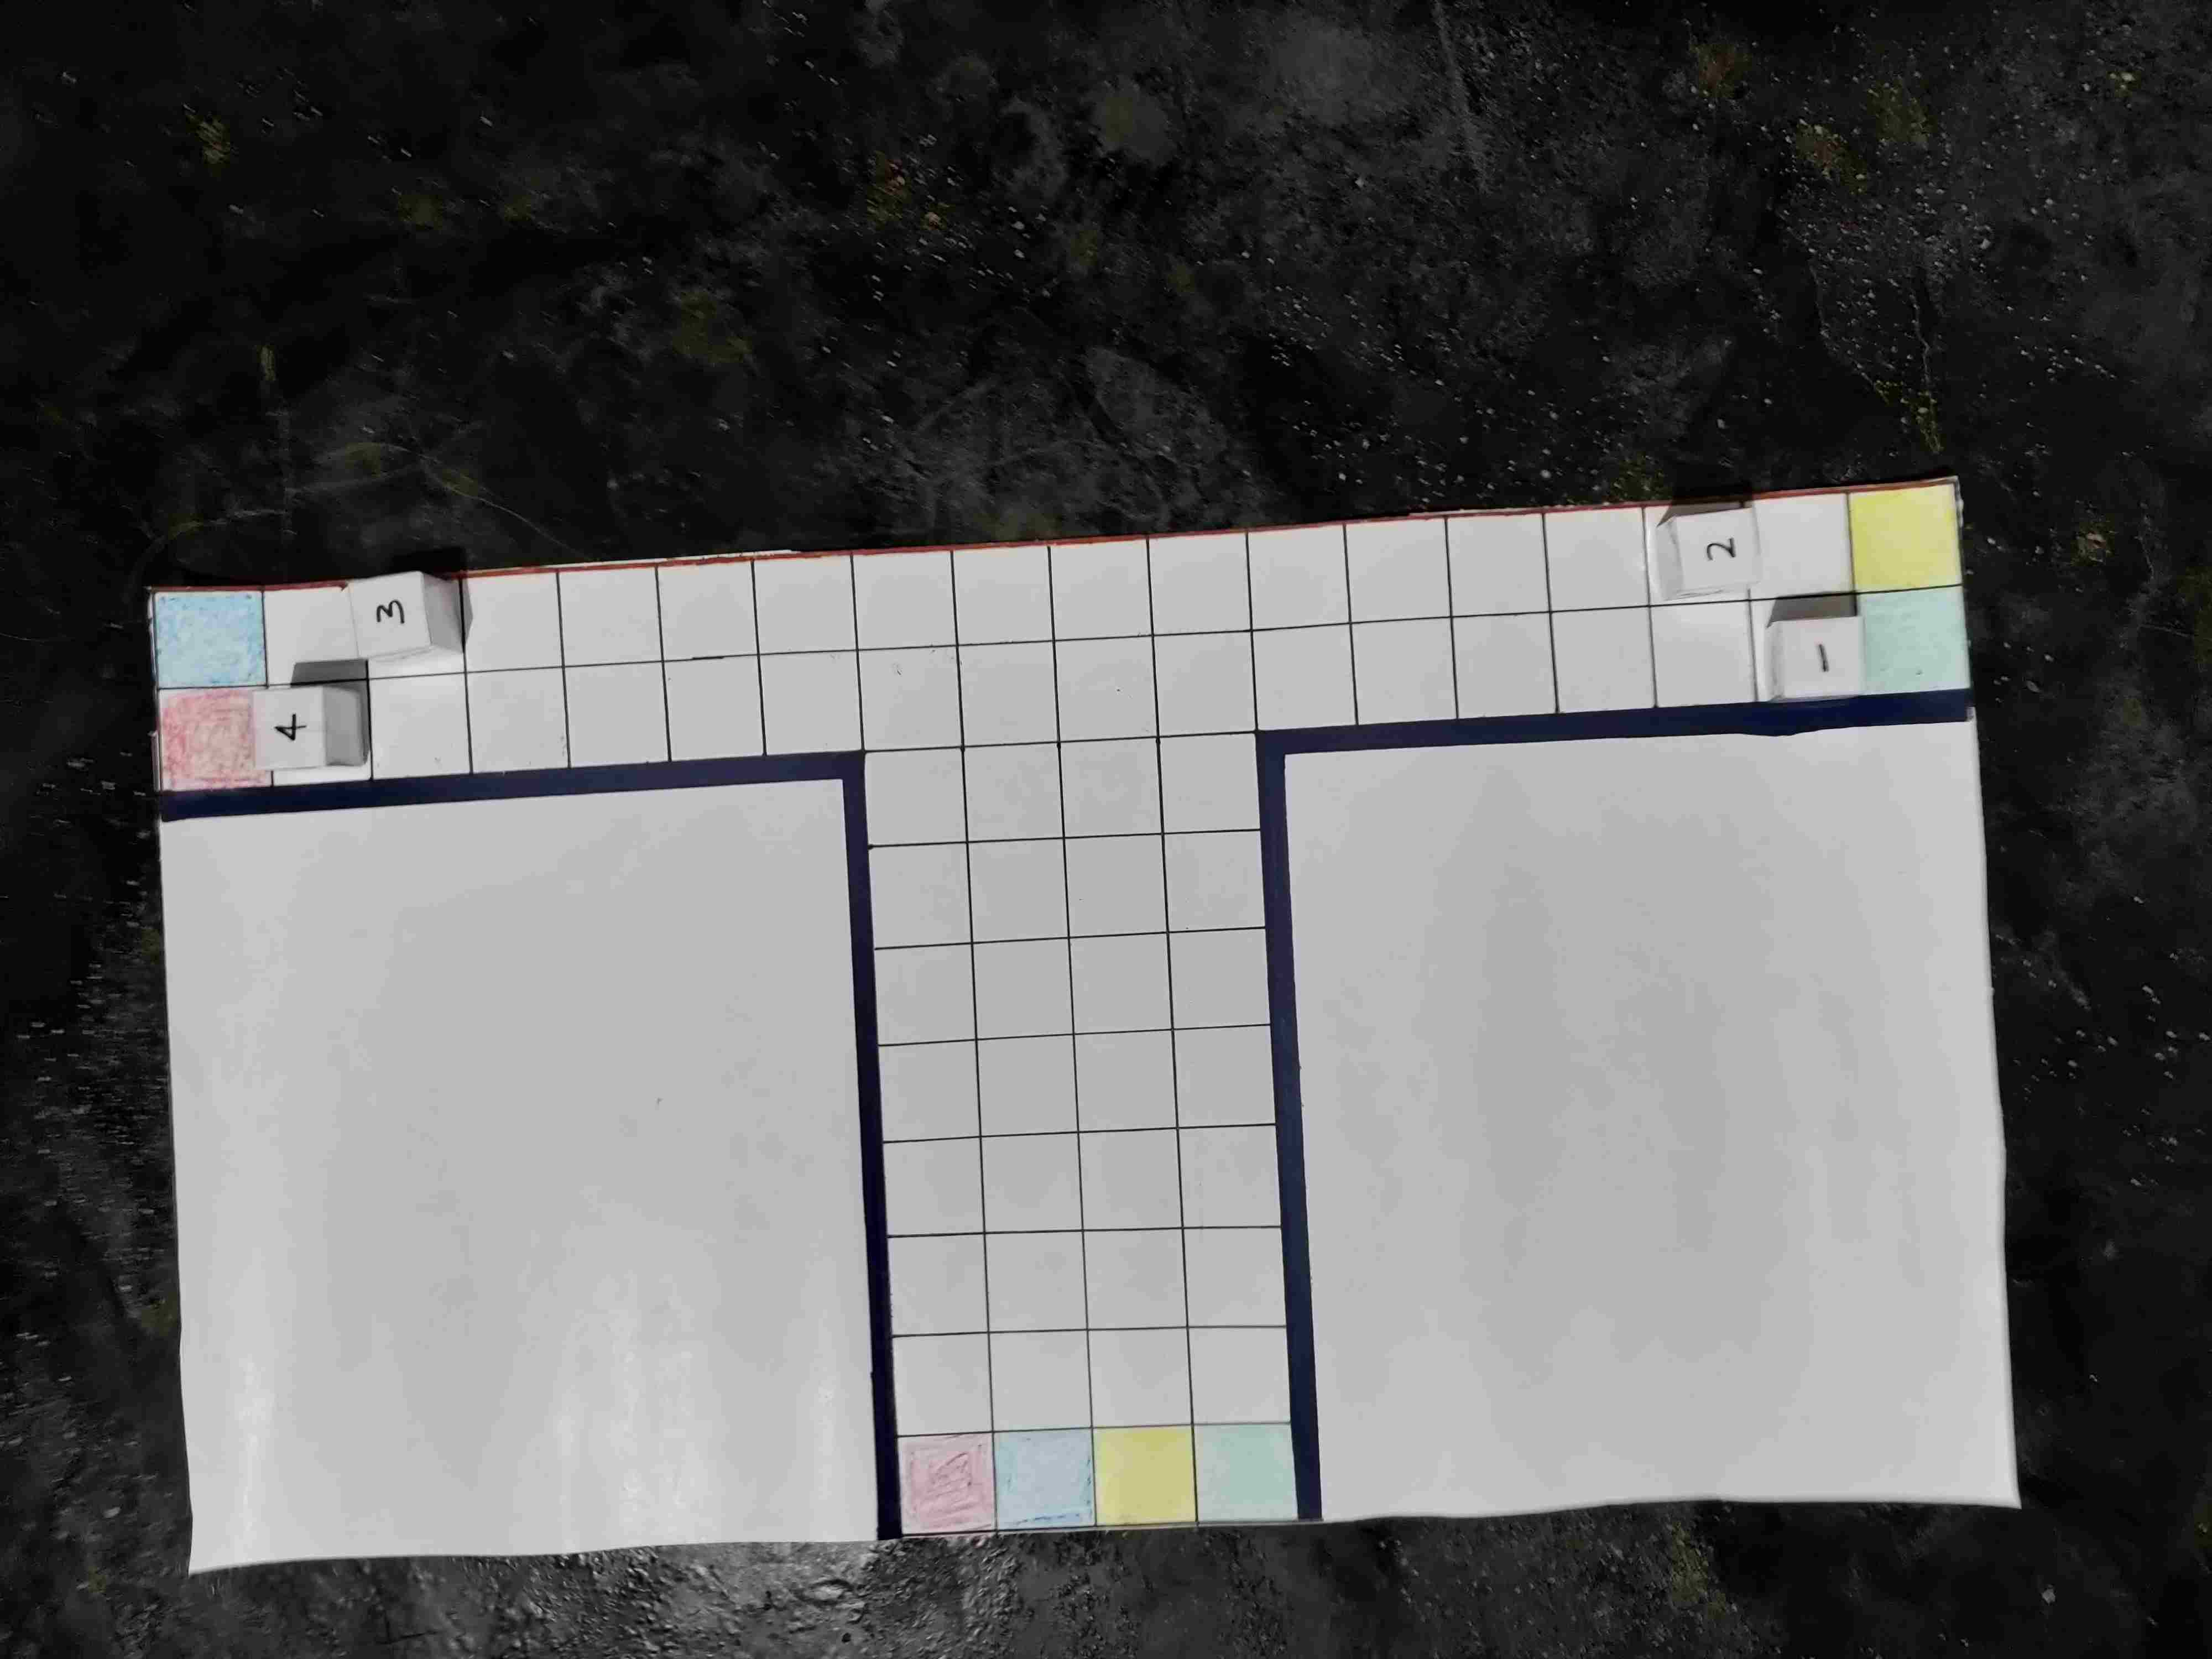arena: (153, 479, 2008, 1542)
bot: (1665, 509, 1763, 594), (1775, 619, 1871, 702), (348, 566, 430, 664), (249, 687, 331, 767)
